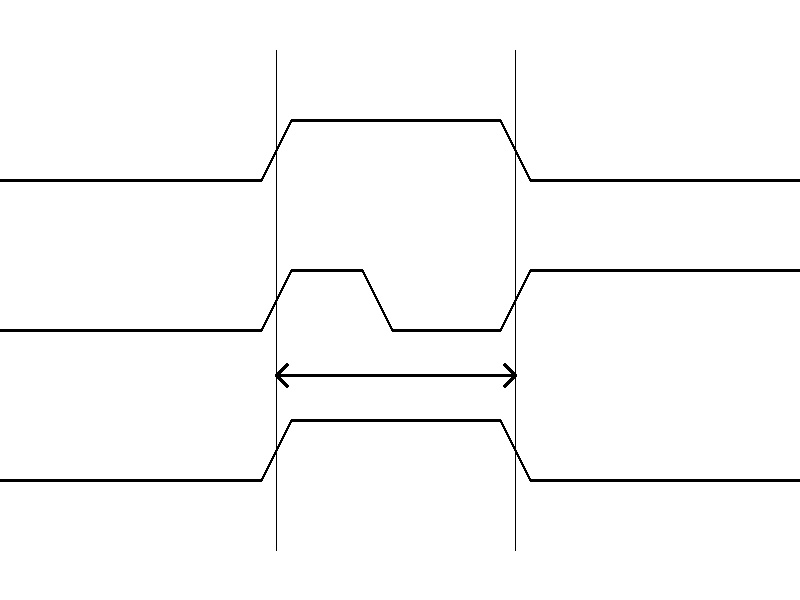double_arrow: (276, 360, 515, 390)
